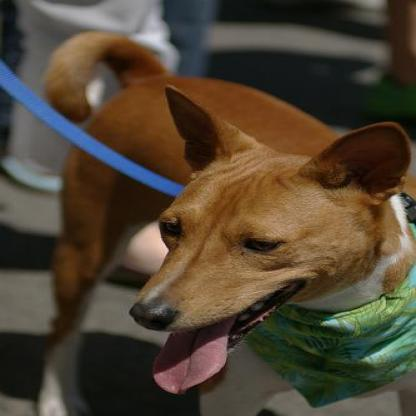basenji: (43, 30, 410, 414)
